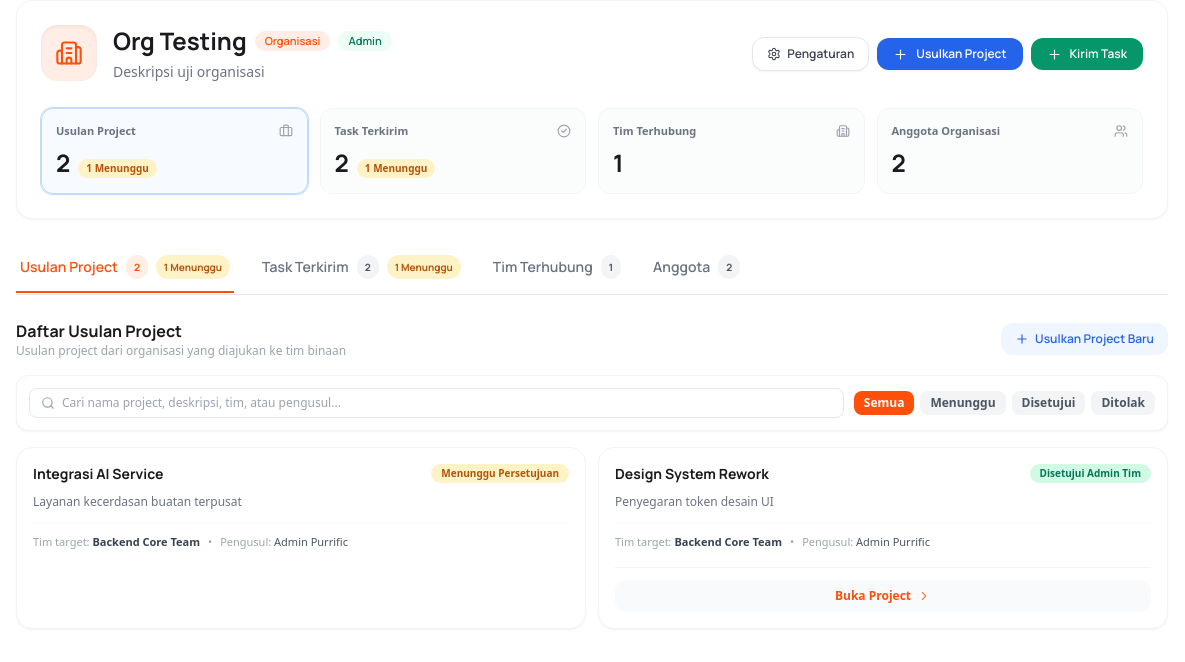
Test case: OrganizationPage › filters and searches proposals properly in Usulan Project tab
Expected: the heading "Org Testing" is shown, [113,25,247,57]
Expected: the heading "Integrasi AI Service" is shown, [33,464,164,484]
Filter chip "Menunggu"
Click the button "Menunggu" at x=963, y=403, box [920,391,1006,415]
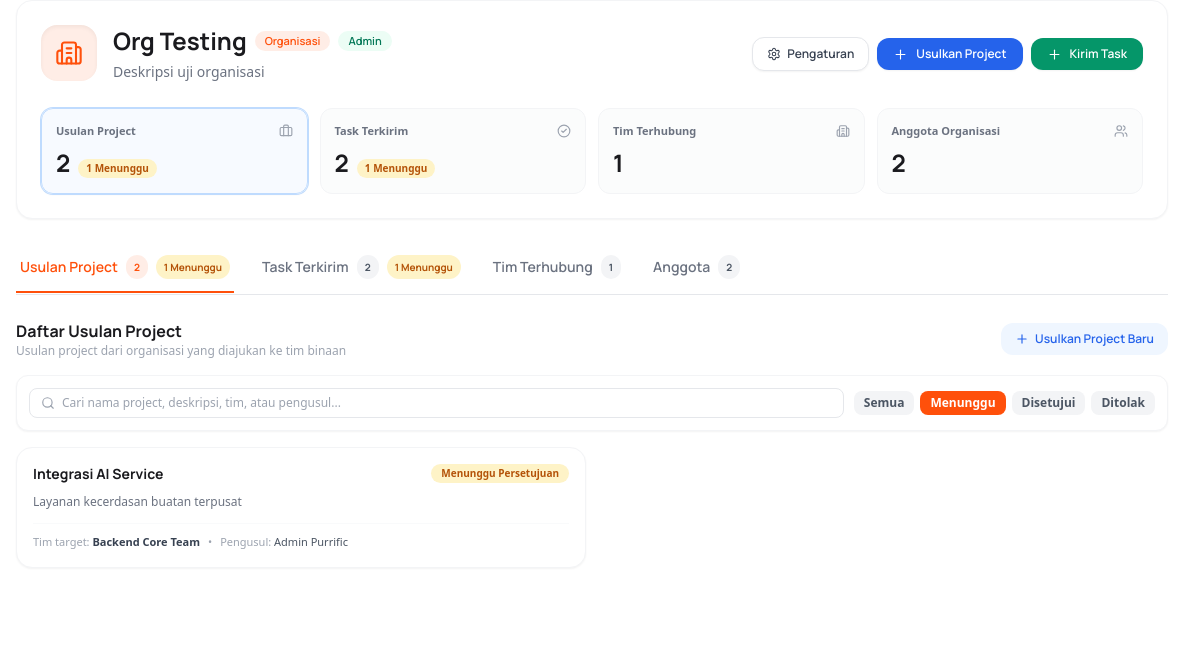
Expected: the heading "Integrasi AI Service" is shown, [33,464,164,484]
Expected: the heading "Design System Rework" is gone
Filter chip "Disetujui"
Click the button "Disetujui" at x=1049, y=403, box [1012,391,1086,415]
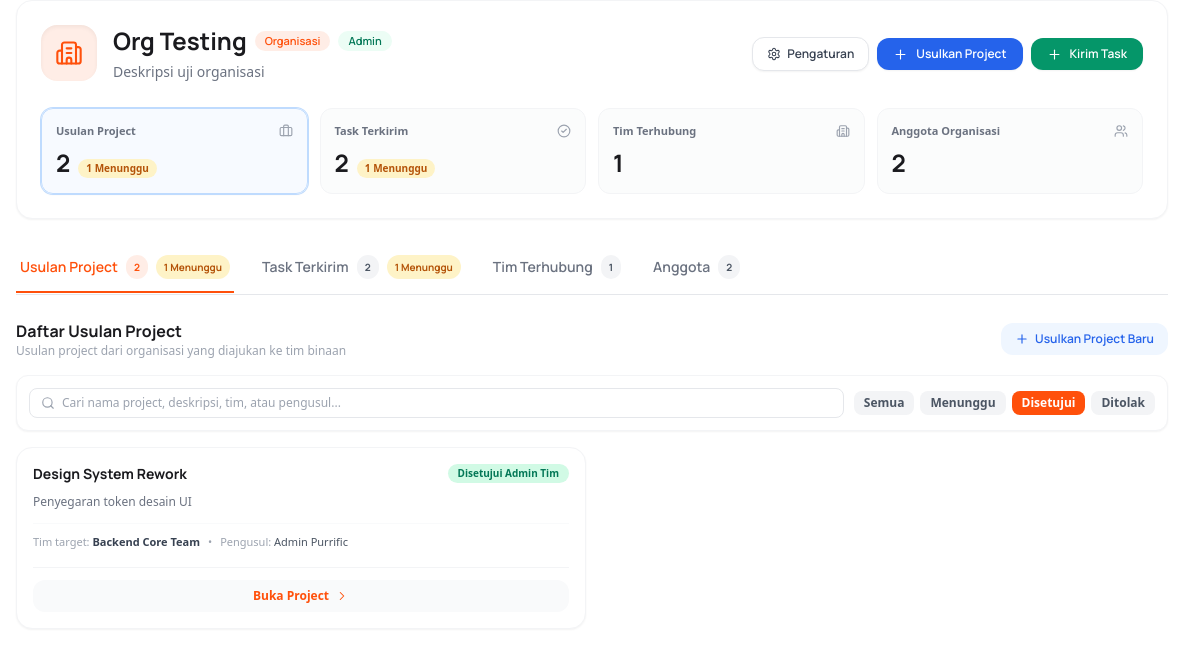
Expected: the heading "Integrasi AI Service" is gone
Expected: the heading "Design System Rework" is shown, [33,464,187,484]
Search bar filter
Type "TidakAdaProject" into the field with placeholder "Cari nama project, deskripsi, tim, atau pengusul..." at x=436, y=403, box [29,388,844,418]
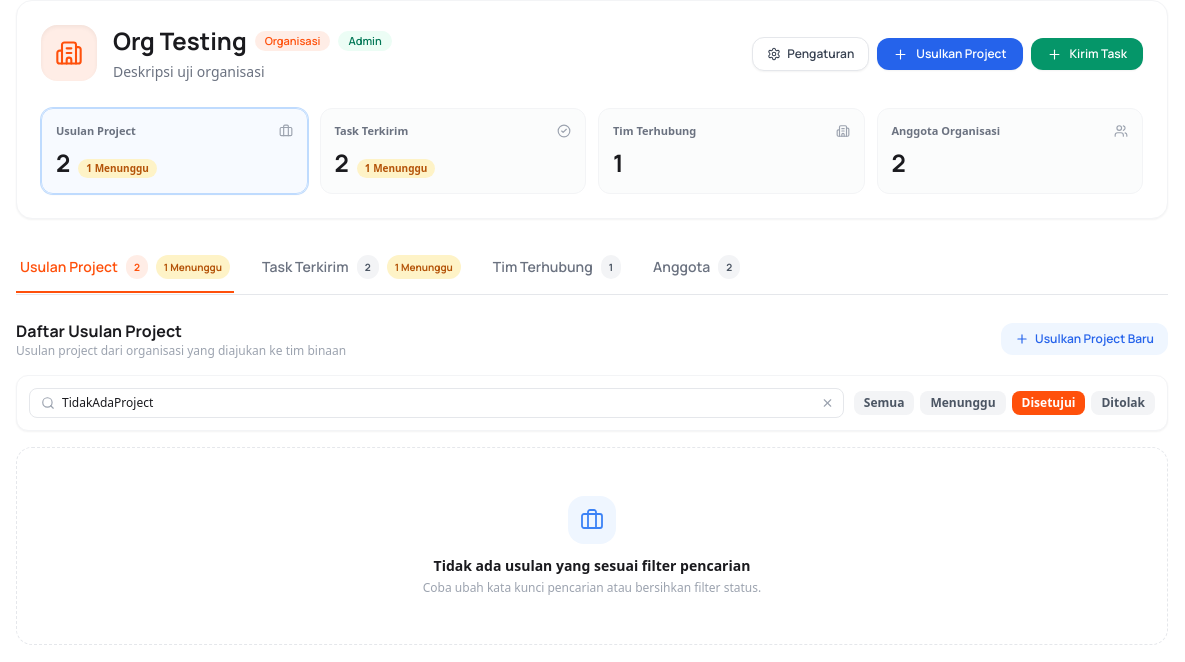
Expected: the text "Tidak ada usulan yang sesuai filter pencarian" is shown, [434,556,750,575]
